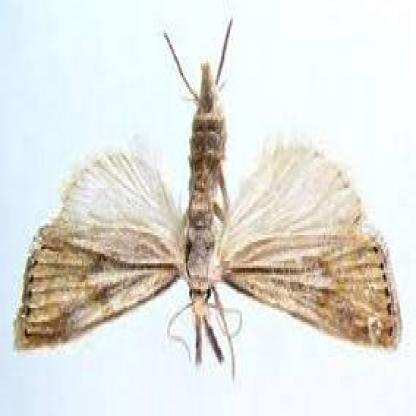stem-borer: (13, 12, 404, 384)
